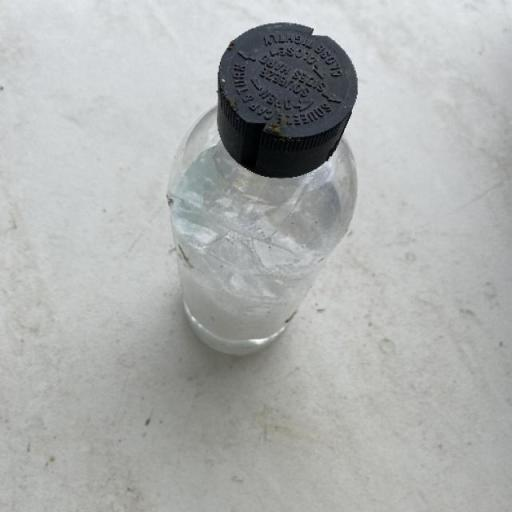plastic: (165, 20, 359, 356)
